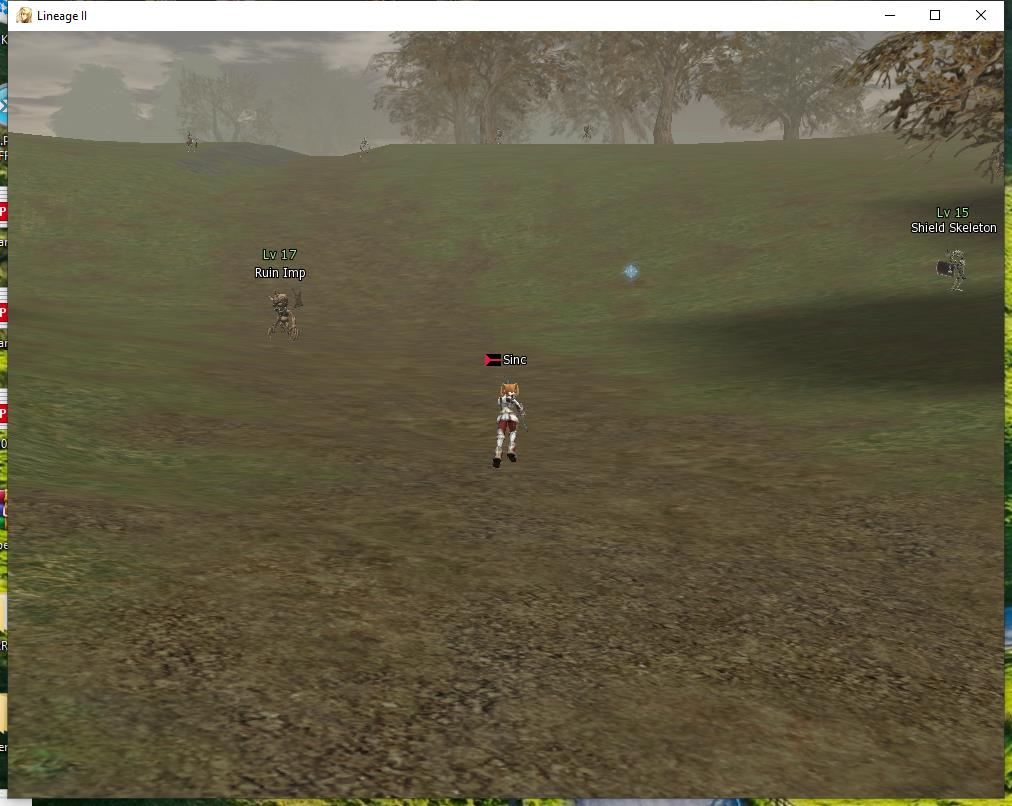monster: (248, 257, 315, 342), (929, 203, 985, 293)
